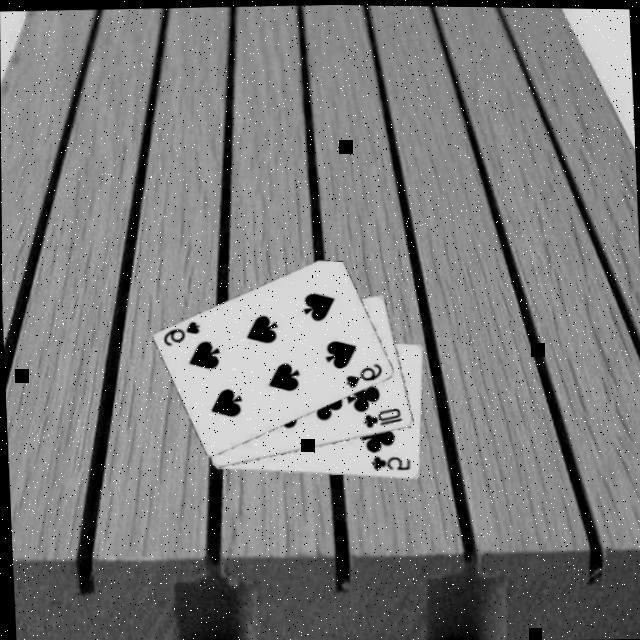10C: (361, 402, 406, 431)
5C: (369, 448, 414, 472)
6S: (343, 357, 386, 389), (160, 315, 203, 347)
